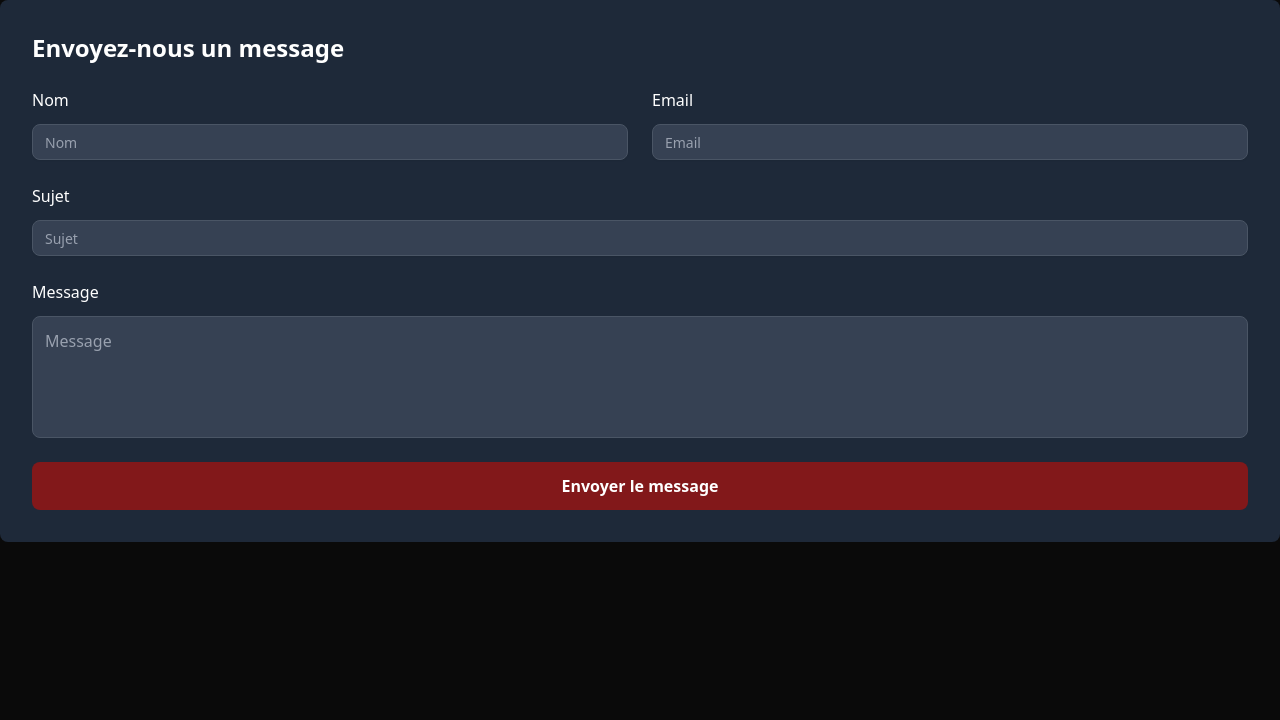
Test: ContactForm › should validate email
Type "my-invalid-email" into the field labelled "Email" at (950, 142), box [652, 124, 1248, 160]
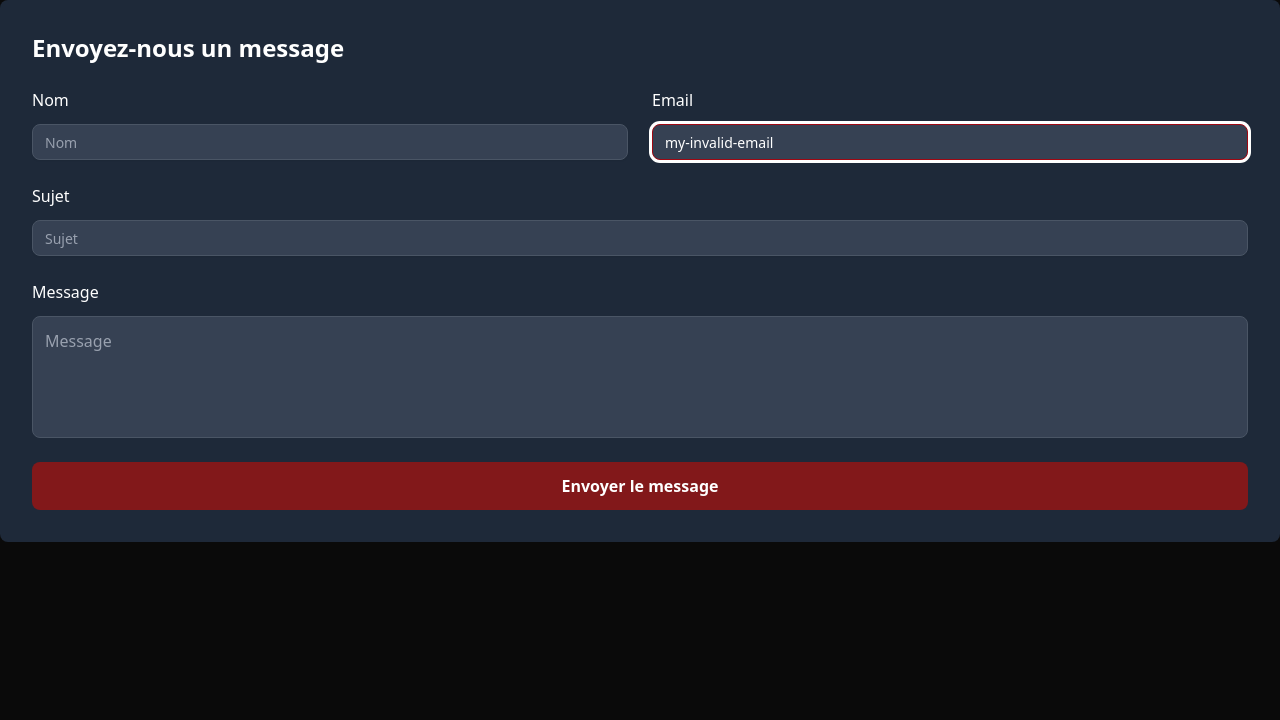
Click the button "Envoyer le message" at (640, 486), box [32, 462, 1248, 510]
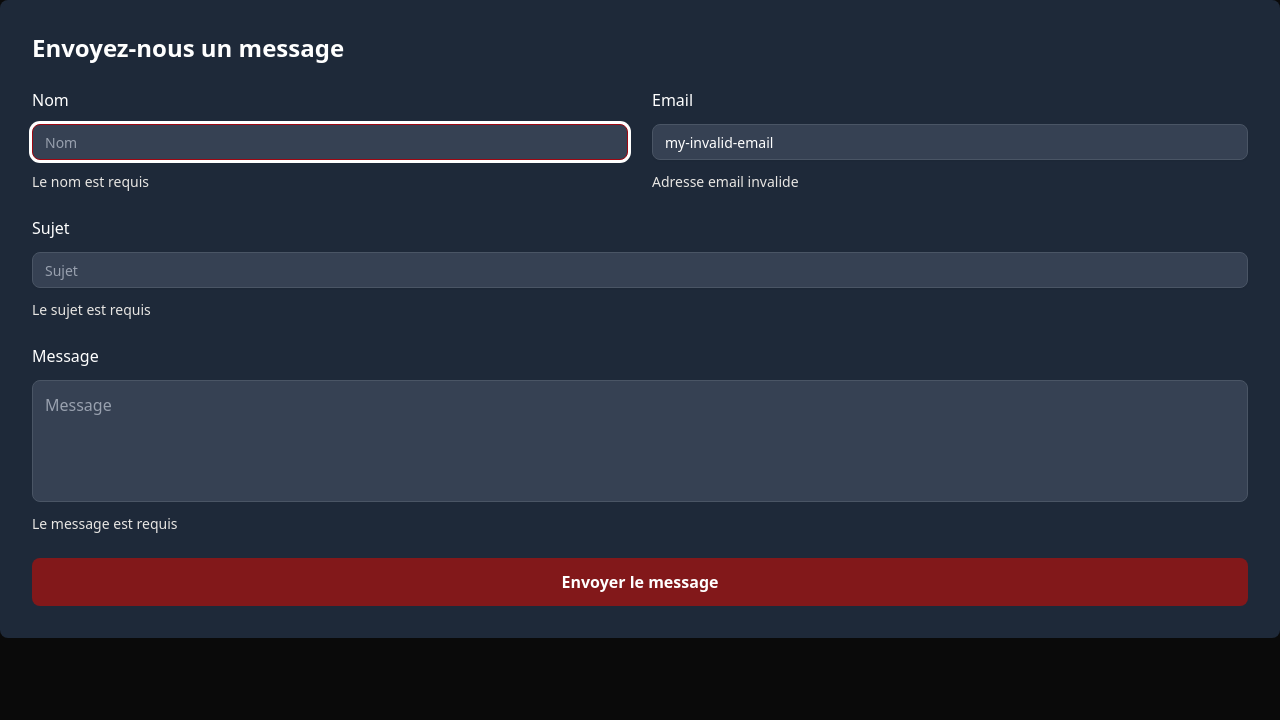
Expected: the text "Adresse email invalide" is shown, [652, 172, 799, 191]
